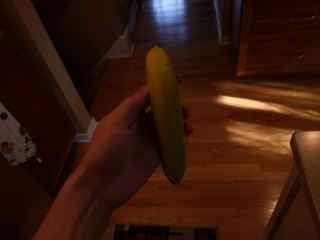banana: (142, 44, 193, 189)
